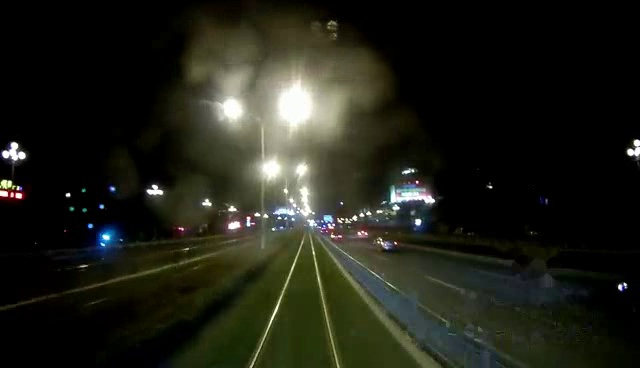car: (372, 234, 403, 255)
